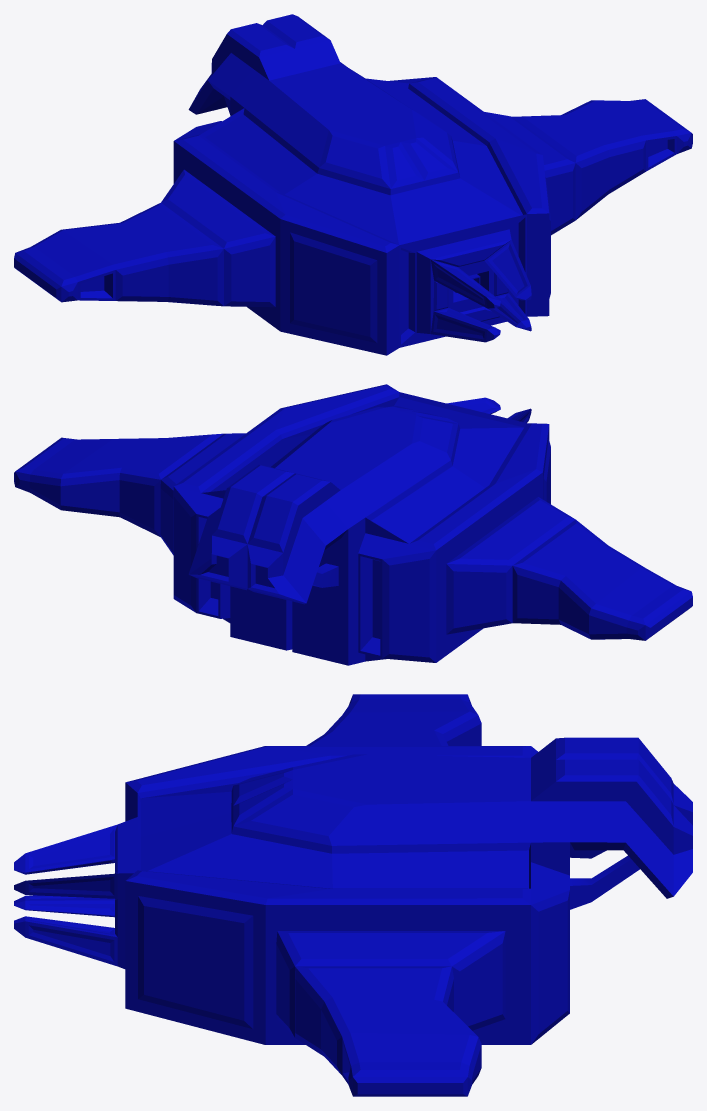
Rendered from Powerplant_Model_Enemy_FlyingTurret.fbx.
The picture shows the model from 3 angles, top to bottom: view 1: azimuth 30°, elevation 25°; view 2: azimuth 150°, elevation 25°; view 3: azimuth 270°, elevation 25°; orthographic projection. The views are drawn at different scales.
Parts seen in each view (by area): view 1: Flying_Turret; view 2: Flying_Turret; view 3: Flying_Turret.
Part boxes in pixels (x1=…): Flying_Turret: x1=14, y1=14, x2=692, y2=355; Flying_Turret: x1=14, y1=384, x2=692, y2=665; Flying_Turret: x1=14, y1=694, x2=692, y2=1096.
Size of the model in its own units: 103 by 28.5 by 76.72.
